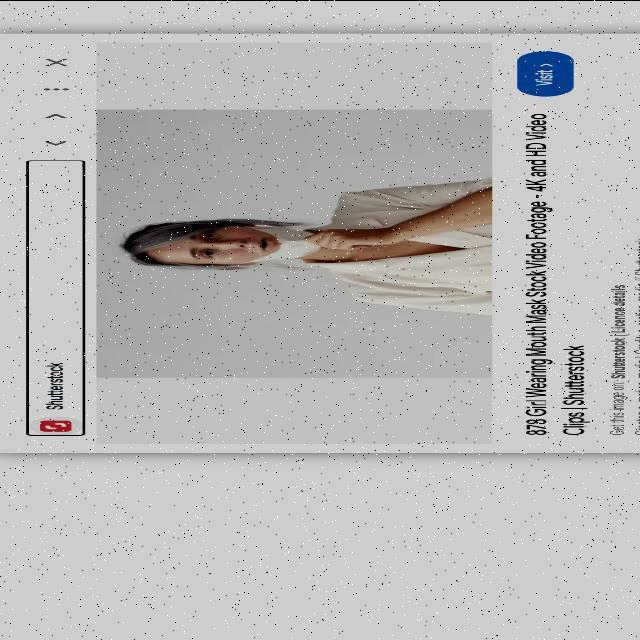face_no_mask: (145, 222, 286, 264)
